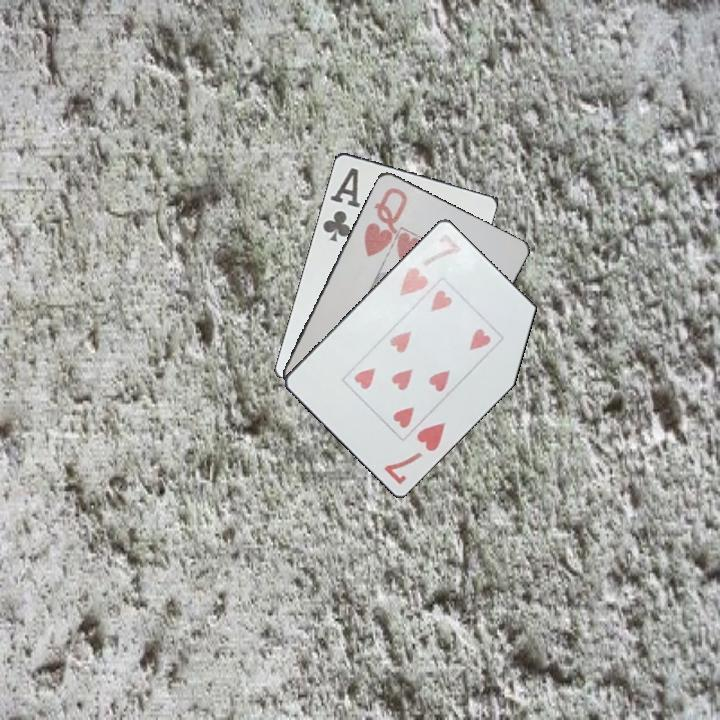7h: (396, 229, 465, 299), (380, 418, 448, 487)
Ac: (317, 164, 363, 245)
Qh: (360, 183, 411, 260)
